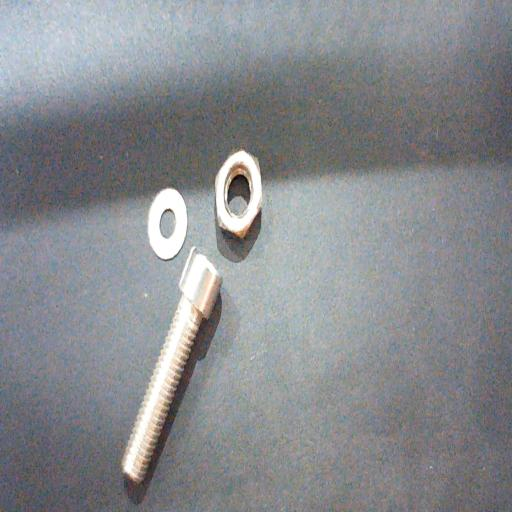nut: (214, 149, 262, 240)
screw: (121, 247, 222, 486)
washer: (147, 188, 187, 261)
